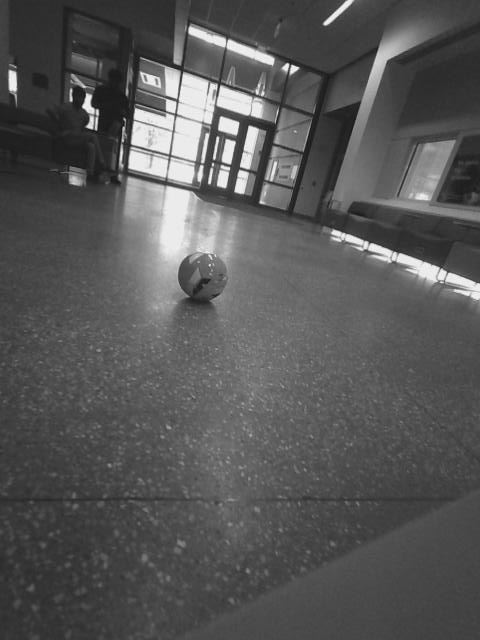ball: (176, 236, 227, 293)
